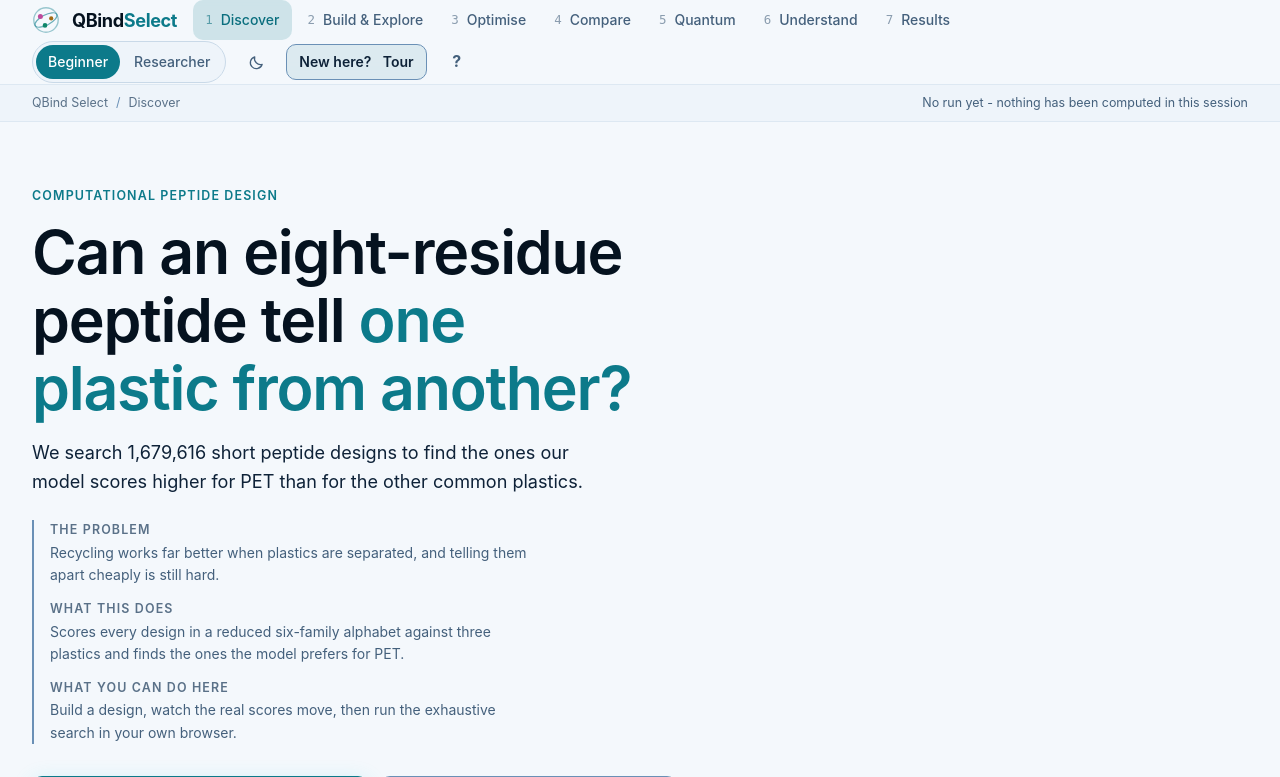
accessibility (axe-core) › keeps every interactive element keyboard reachable
Expected: the heading "Can an eight-residue peptide tell one plastic from another?" is shown, [32,218,718,422]
Step 1. Click the link "2 Build & Explore" → [365, 19], box [308,11,423,28]
(page scrolled)
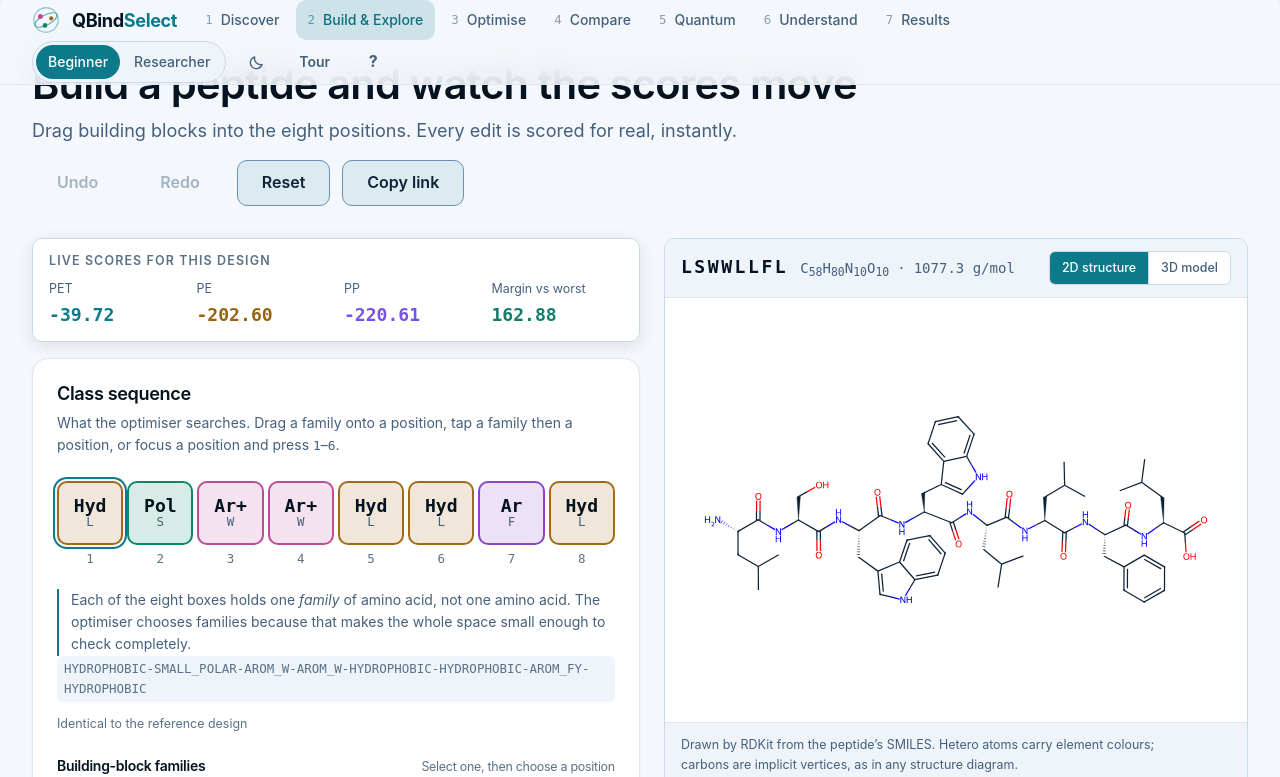
Now the heading "Build a peptide and watch the scores move" is shown, box [32,59,857,109]
